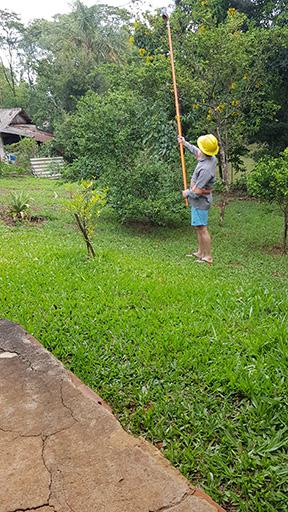Capacete: (195, 133, 220, 157)
Vara_Manobra: (165, 19, 189, 207)
